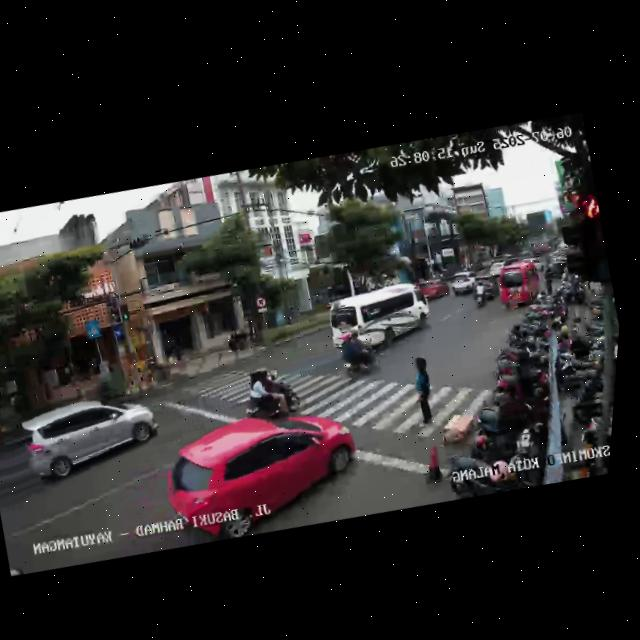car: (151, 388, 372, 560), (16, 379, 171, 499), (323, 273, 439, 363), (491, 253, 552, 316), (415, 272, 451, 303), (445, 268, 479, 299)
motorcycle: (230, 357, 305, 429), (332, 325, 386, 382), (467, 276, 493, 310)
person: (400, 353, 445, 436)
